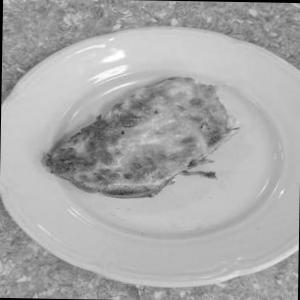cheese_sandwich: (25, 64, 238, 210)
